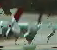Give way: (4, 1, 56, 48)
